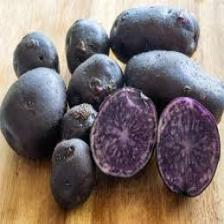Damaged potato: (121, 47, 224, 112), (2, 68, 69, 162), (108, 0, 202, 55), (68, 54, 126, 110), (49, 138, 95, 205), (59, 16, 110, 70), (10, 28, 61, 79), (59, 102, 97, 147)
Defected potato: (158, 97, 222, 202), (91, 86, 158, 176)
